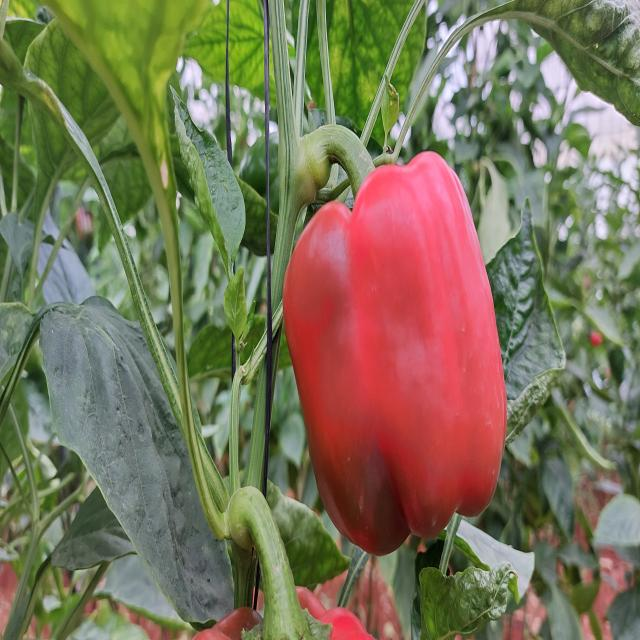Red-Ready-to-Harvest: (277, 162, 530, 560)
